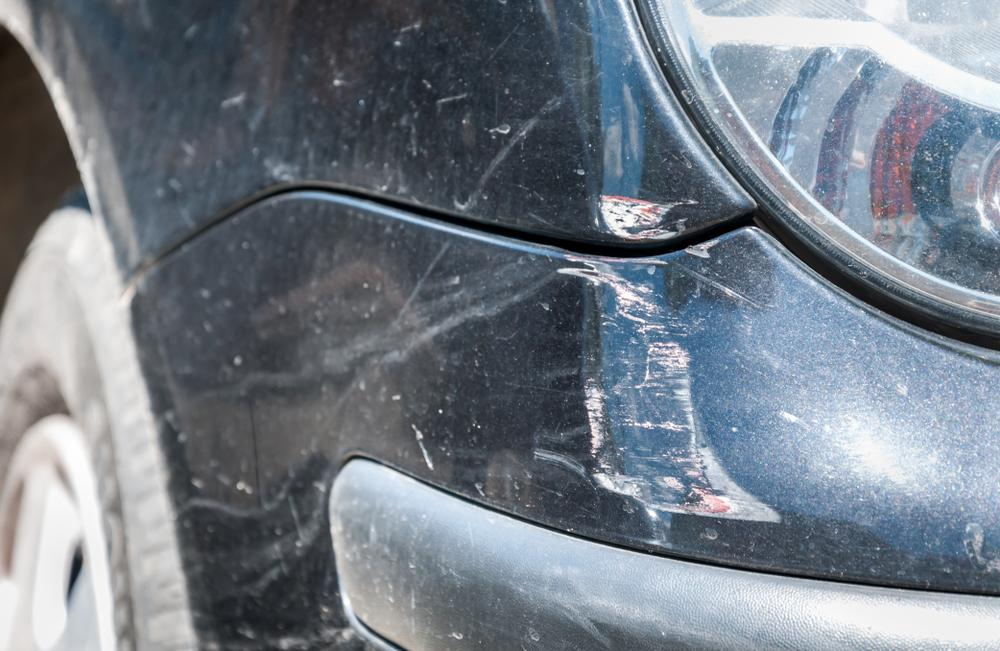scratch: (557, 237, 740, 515), (599, 191, 699, 239)
